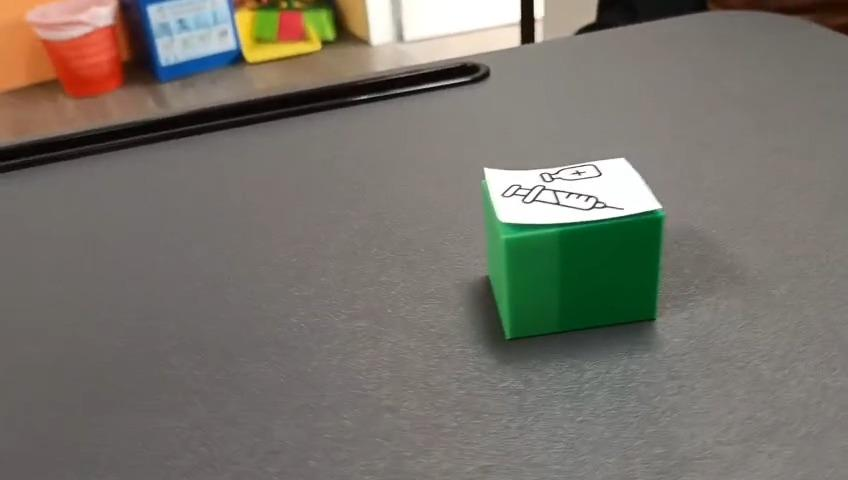antiseptic cream: (479, 155, 666, 340)
